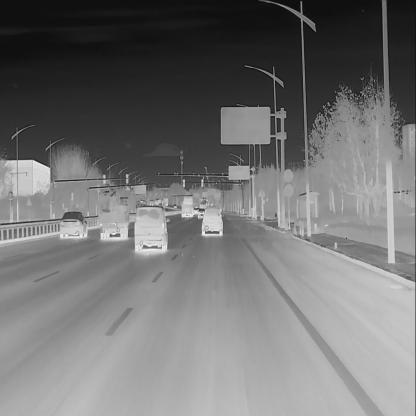car: (134, 202, 169, 250), (59, 209, 88, 239), (201, 204, 224, 236), (196, 207, 206, 218), (192, 206, 200, 215), (173, 203, 177, 209)
truck: (96, 186, 133, 241), (180, 196, 194, 218), (198, 198, 208, 211), (161, 197, 169, 206)
